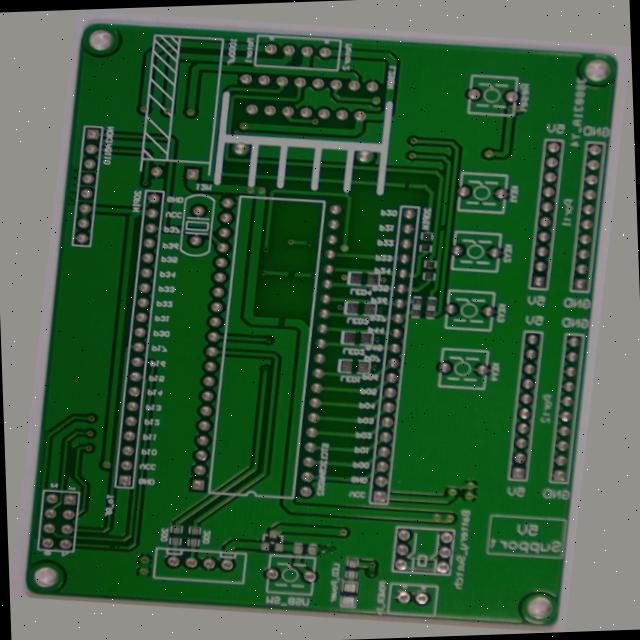open_circuit: (266, 317, 284, 332), (272, 266, 287, 280), (390, 159, 403, 170), (112, 583, 127, 590), (440, 200, 448, 211)
